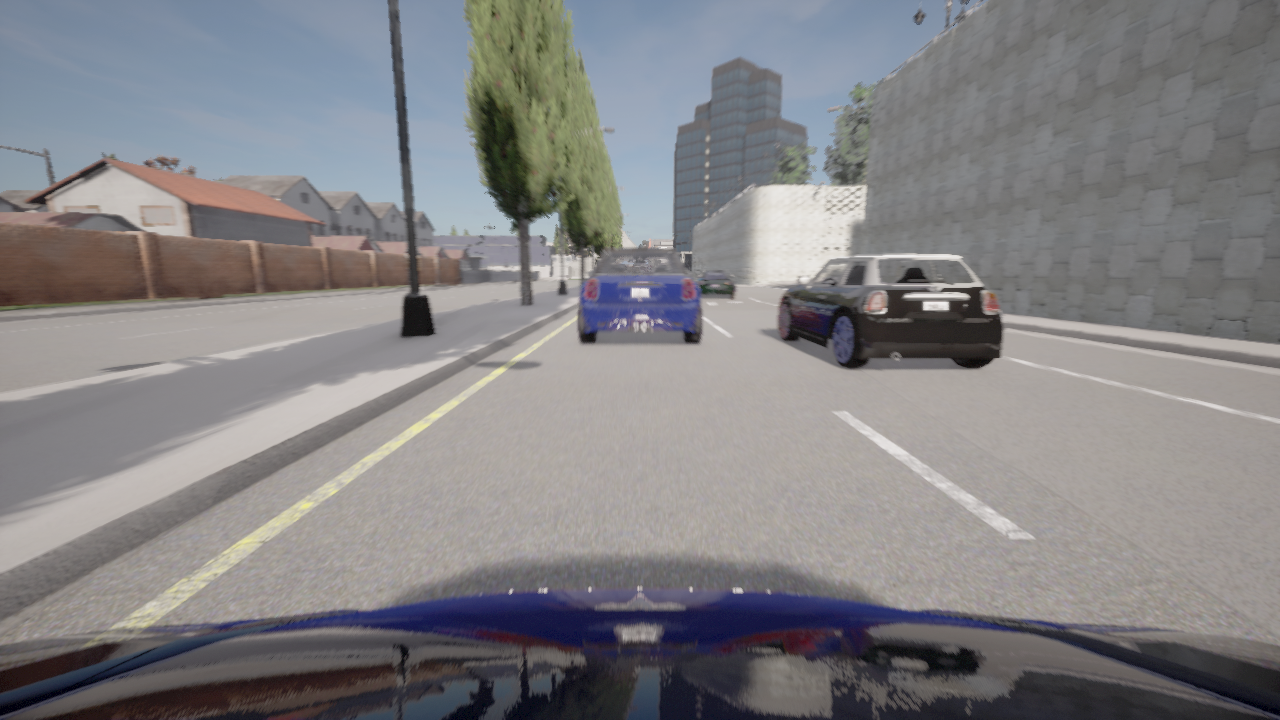cyclist: (0, 588, 1279, 719), (778, 254, 1003, 368), (578, 245, 701, 342), (696, 270, 735, 298)
